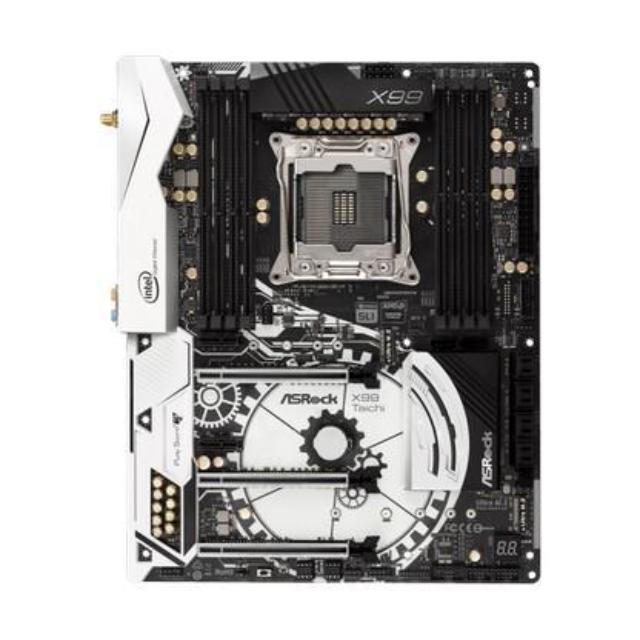Mainboard: (102, 54, 542, 588)
